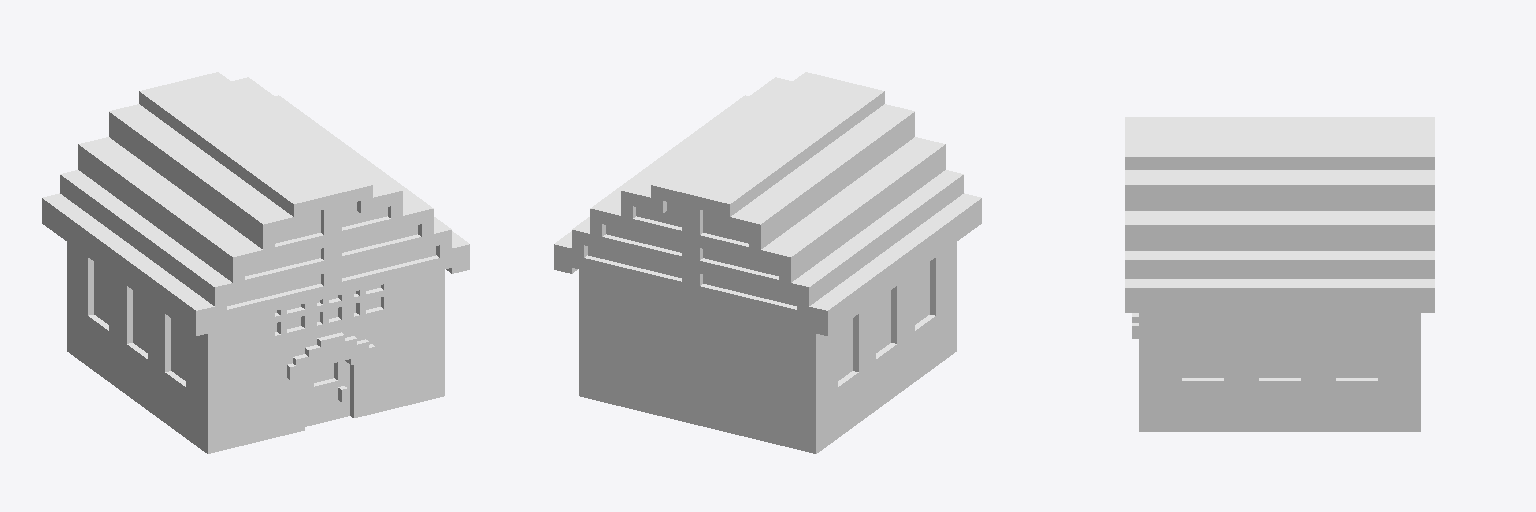
Rendered from casamaluca.obj.
3 views of the same model, side by side, from view 1: azimuth 30°, elevation 25°; view 2: azimuth 150°, elevation 25°; view 3: azimuth 270°, elevation 25° (orthographic).
Visible parts, largest first — view 1: object 1; view 2: object 1; view 3: object 1.
Boxes of the visible parts, <box> form: object 1: <box>42,72,469,453</box>; object 1: <box>554,72,981,453</box>; object 1: <box>1125,117,1434,431</box>.
Bounding box in the file's own units: 4.5 × 3.7 × 4.4.